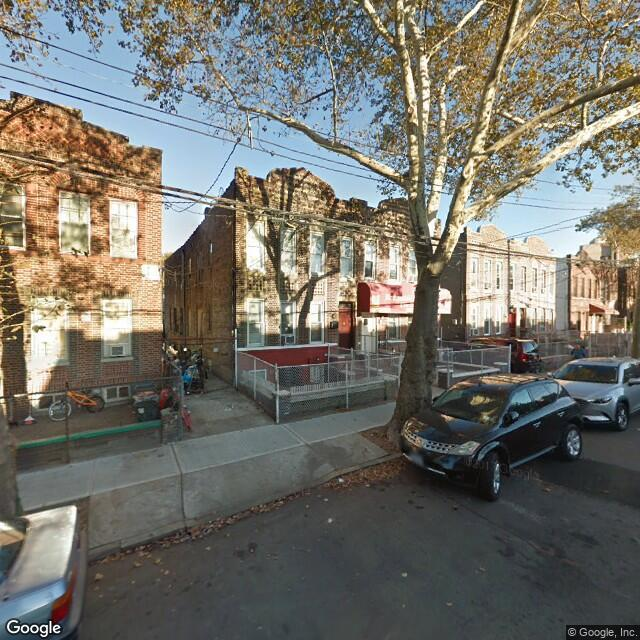litter: (401, 571, 408, 576), (327, 516, 332, 521), (339, 477, 345, 479)
